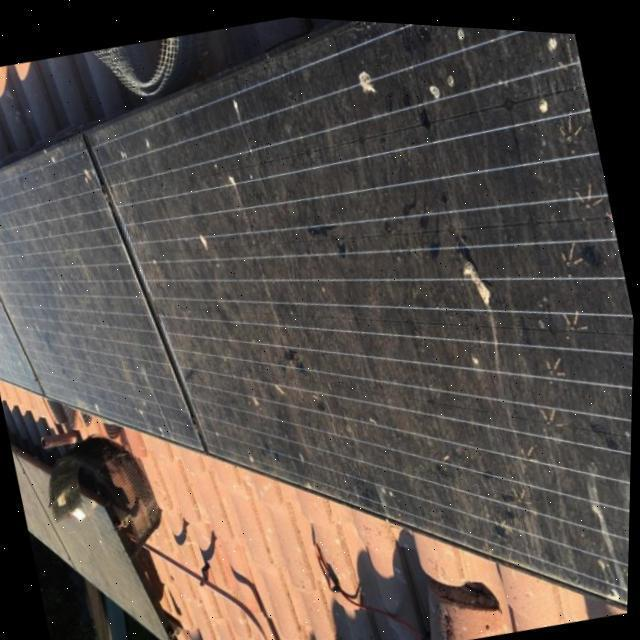Anomaly Solar Panel: (85, 16, 635, 601), (0, 130, 203, 448), (13, 449, 172, 640)
Surface Contaminant: (87, 17, 635, 595), (0, 135, 201, 442), (14, 451, 171, 640), (0, 304, 38, 388)
